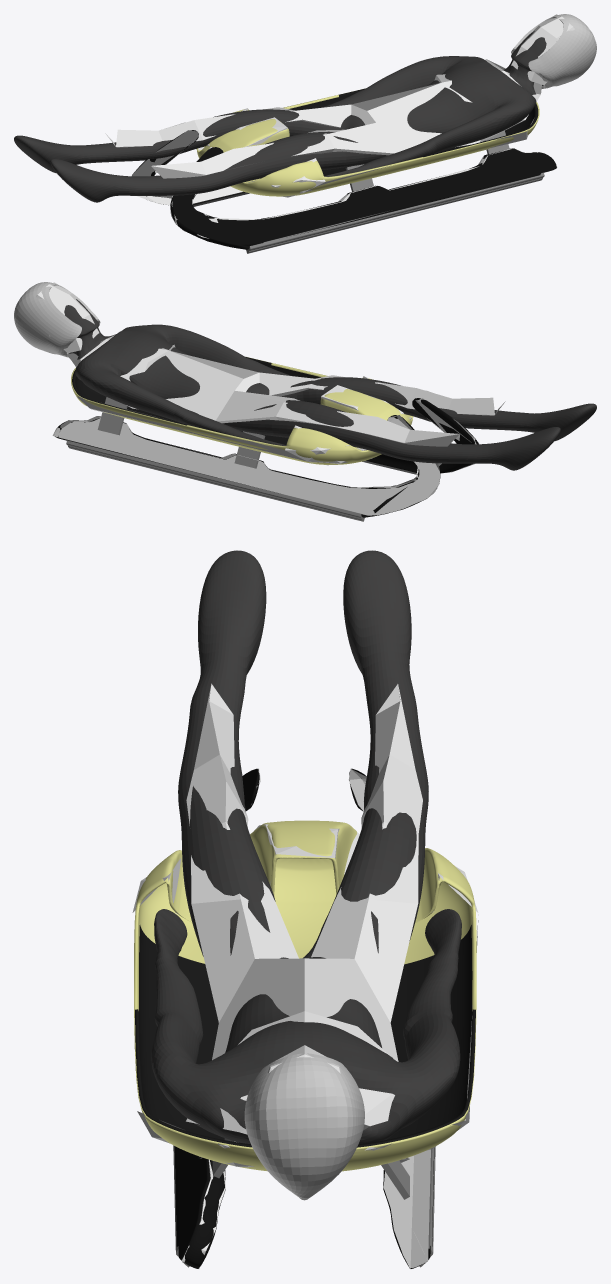
File: sled.glb
3 renders of one model, top to bottom at view 1: azimuth 30°, elevation 25°; view 2: azimuth 150°, elevation 25°; view 3: azimuth 270°, elevation 25°, orthographic. The views are drawn at different scales.
Visible parts, largest first — view 1: BASE_Low_Poly_Man, HumanPhysics-convcol, RunnerL, Pod, SteelL, RunnerRPhysics-convcol, PodPhysics-convcol, RunnerLPhysics-convcol; view 2: BASE_Low_Poly_Man, HumanPhysics-convcol, RunnerRPhysics-convcol, Pod, SteelR, PodPhysics-convcol, RunnerL, RunnerR, BridgeRR, BridgeRF, RunnerLPhysics-convcol; view 3: BASE_Low_Poly_Man, HumanPhysics-convcol, Pod, RunnerL, RunnerRPhysics-convcol, PodPhysics-convcol.
Boxes of the visible parts, box(x1,y1,x2,y2) form: BASE_Low_Poly_Man: box(14, 14, 596, 202); HumanPhysics-convcol: box(105, 14, 574, 178); RunnerL: box(170, 147, 556, 249); Pod: box(196, 88, 539, 196); SteelL: box(246, 172, 544, 253); RunnerRPhysics-convcol: box(132, 130, 242, 205); PodPhysics-convcol: box(198, 108, 534, 197); RunnerLPhysics-convcol: box(170, 147, 557, 248); BASE_Low_Poly_Man: box(14, 282, 596, 470); HumanPhysics-convcol: box(35, 282, 505, 446); RunnerRPhysics-convcol: box(52, 415, 440, 516); Pod: box(71, 356, 413, 464); SteelR: box(66, 440, 364, 521); PodPhysics-convcol: box(77, 376, 411, 465); RunnerL: box(366, 398, 478, 473); RunnerR: box(55, 415, 440, 517); BridgeRR: box(97, 397, 127, 435); BridgeRF: box(234, 431, 265, 468); RunnerLPhysics-convcol: box(413, 398, 479, 473); BASE_Low_Poly_Man: box(151, 550, 461, 1200); HumanPhysics-convcol: box(186, 683, 422, 1134); Pod: box(134, 820, 476, 1171); RunnerL: box(174, 768, 259, 1268); RunnerRPhysics-convcol: box(348, 769, 430, 1269); PodPhysics-convcol: box(132, 824, 478, 1167).
Bounding box in the file's own units: 1.89 × 0.424 × 0.5085.
